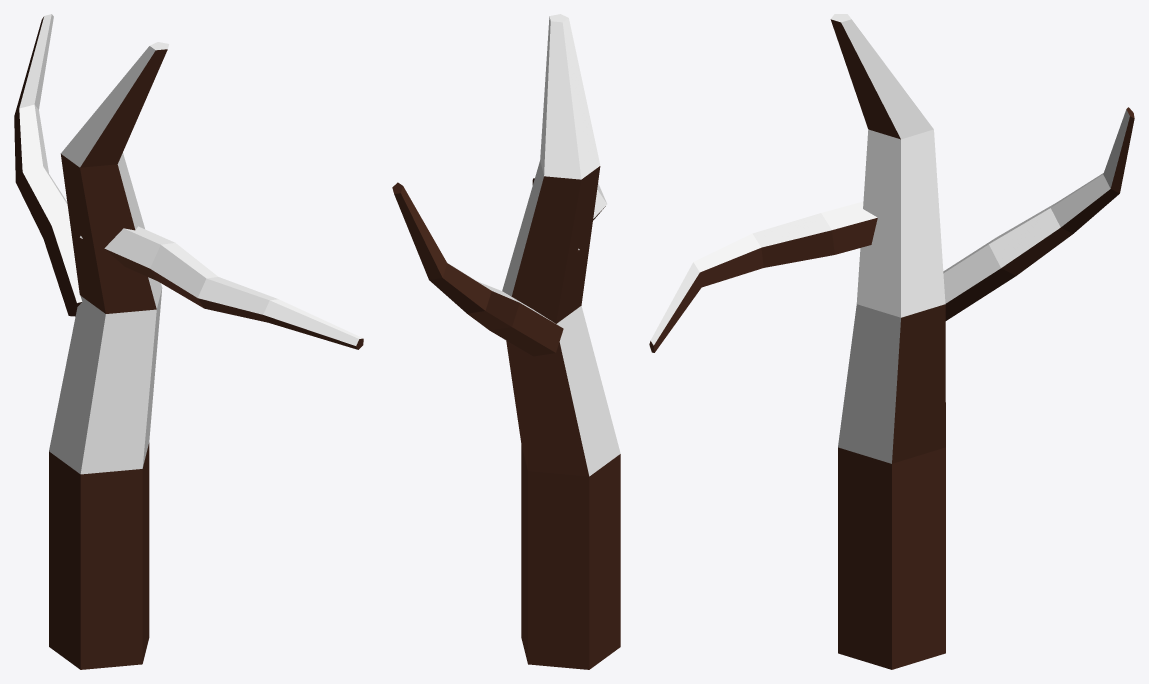
File: tree8.fbx
The picture shows the model from 3 angles, left to right: view 1: azimuth 30°, elevation 25°; view 2: azimuth 150°, elevation 25°; view 3: azimuth 270°, elevation 25°; orthographic projection. The views are drawn at different scales.
Visible parts, largest first — view 1: Cylinder, Cylinder_2, Cylinder_1; view 2: Cylinder, Cylinder_1; view 3: Cylinder, Cylinder_1, Cylinder_2.
Boxes of the visible parts, x1,y1,x2,y2 form: Cylinder: (49, 42, 168, 669); Cylinder_2: (80, 226, 363, 349); Cylinder_1: (14, 14, 82, 316); Cylinder: (502, 14, 620, 669); Cylinder_1: (392, 182, 563, 356); Cylinder: (830, 14, 945, 669); Cylinder_1: (943, 107, 1134, 320); Cylinder_2: (649, 201, 877, 352).
Bounding box in the file's own units: 199 × 626 × 427.
